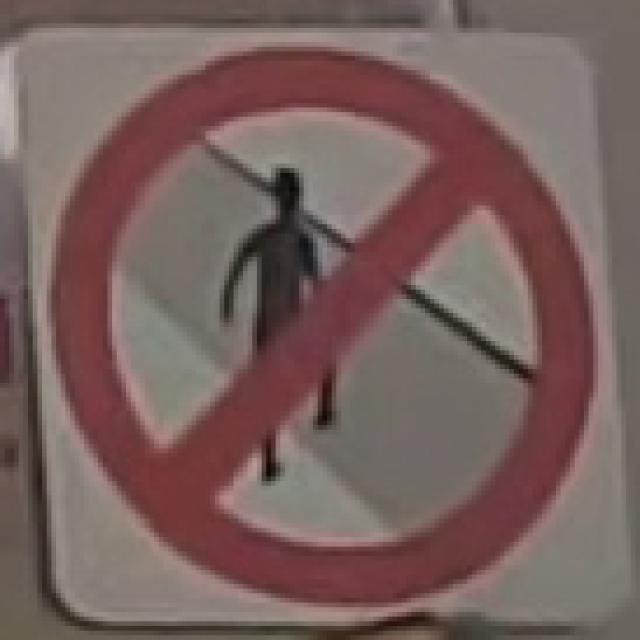nojaywalking_sign: (9, 19, 622, 626)
